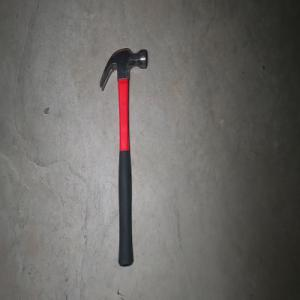Hammer: (98, 47, 147, 268)
